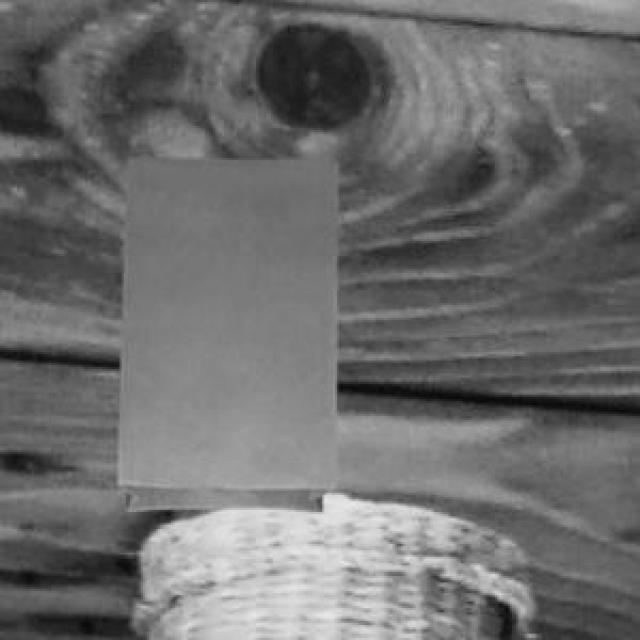paper: (115, 154, 333, 508)
